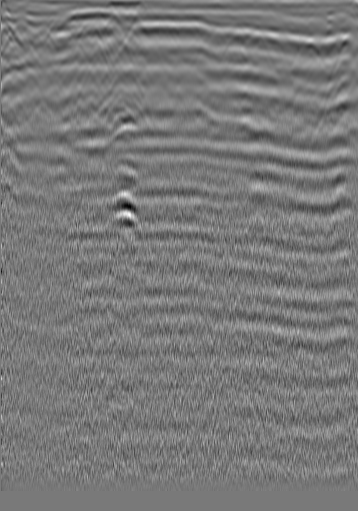가스: (109, 186, 141, 235)
상수: (26, 26, 57, 54)
오수: (292, 34, 312, 54)
우수: (149, 15, 169, 35)
